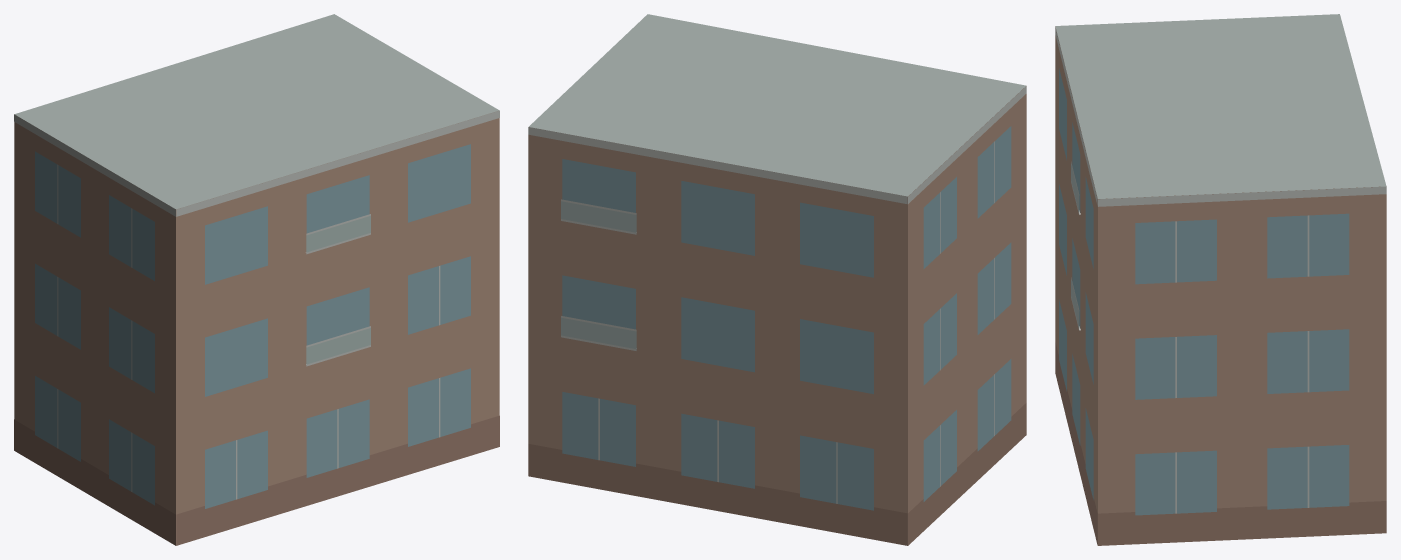
The model's file is survey-upis-32469049.glb.
The picture shows the model from 3 angles, left to right: view 1: azimuth 30°, elevation 25°; view 2: azimuth 150°, elevation 25°; view 3: azimuth 270°, elevation 25°; orthographic projection. The views are drawn at different scales.
Visible parts, largest first — view 1: survey-upis-32469049.tmp; view 2: survey-upis-32469049.tmp; view 3: survey-upis-32469049.tmp.
Part boxes in pixels (x1,y1,x2,y2): survey-upis-32469049.tmp: [14, 14, 499, 545]; survey-upis-32469049.tmp: [528, 14, 1026, 545]; survey-upis-32469049.tmp: [1055, 14, 1386, 545].
Size of the model in its own units: 12.55 by 10.95 by 9.49.
